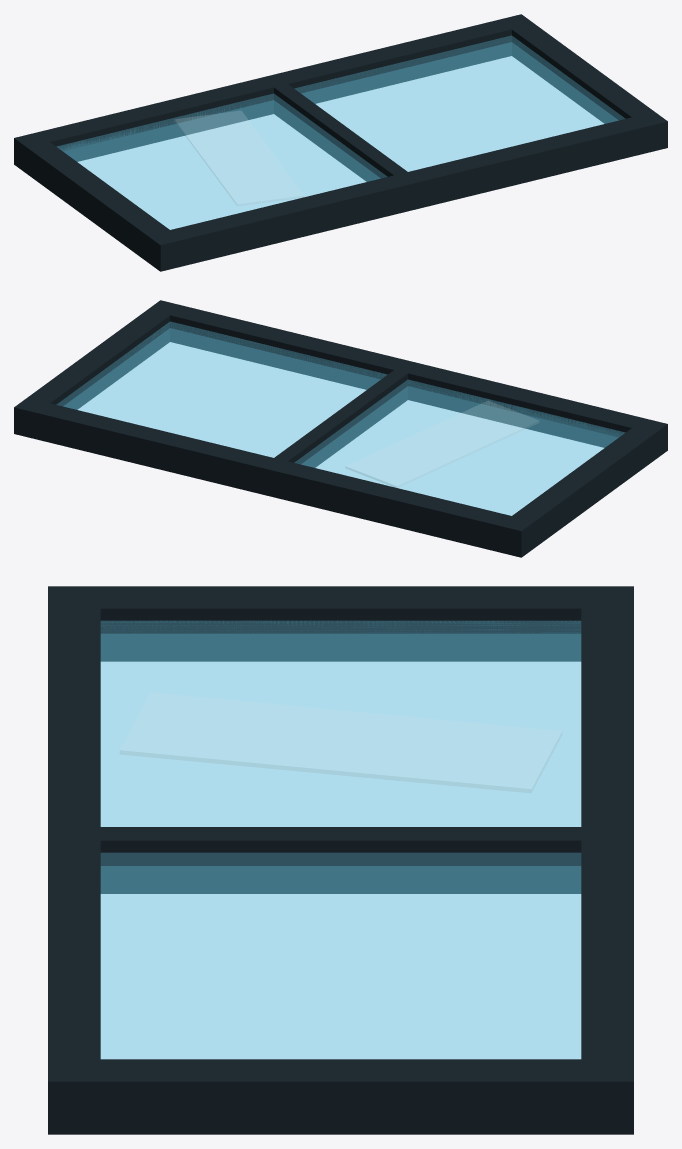
File: skylight_2x1.glb
3 renders of one model, top to bottom at view 1: azimuth 30°, elevation 25°; view 2: azimuth 150°, elevation 25°; view 3: azimuth 270°, elevation 25°, orthographic. The views are drawn at different scales.
Visible parts, largest first — view 1: Glass_Surface, Frame_South, Frame_North, Reflection_Stripe, Frame_West, Frame_East, Mullion_X_1; view 2: Glass_Surface, Frame_North, Frame_South, Reflection_Stripe, Frame_West, Frame_East, Mullion_X_1; view 3: Glass_Surface, Frame_East, Frame_West, Mullion_X_1, Frame_North, Frame_South, Reflection_Stripe.
Boxes of the visible parts, x1,y1,x2,y2 form: Glass_Surface: (57,35,624,229); Frame_South: (147,112,667,271); Frame_North: (14,14,534,173); Reflection_Stripe: (175,111,303,205); Frame_West: (27,142,169,261); Frame_East: (512,24,654,123); Mullion_X_1: (274,84,407,181); Glass_Surface: (57,321,625,515); Frame_North: (14,398,534,557); Frame_South: (147,300,667,459); Reflection_Stripe: (346,401,538,487); Frame_West: (512,428,654,547); Frame_East: (27,310,169,409); Mullion_X_1: (274,370,407,467); Glass_Surface: (100,620,581,1059); Frame_East: (100,1059,581,1134); Frame_West: (100,586,581,661); Mullion_X_1: (100,827,581,893); Frame_North: (581,586,633,1134); Frame_South: (48,586,100,1134); Reflection_Stripe: (120,693,561,792).
Size of the model in its own units: 2 by 0.1 by 1.
